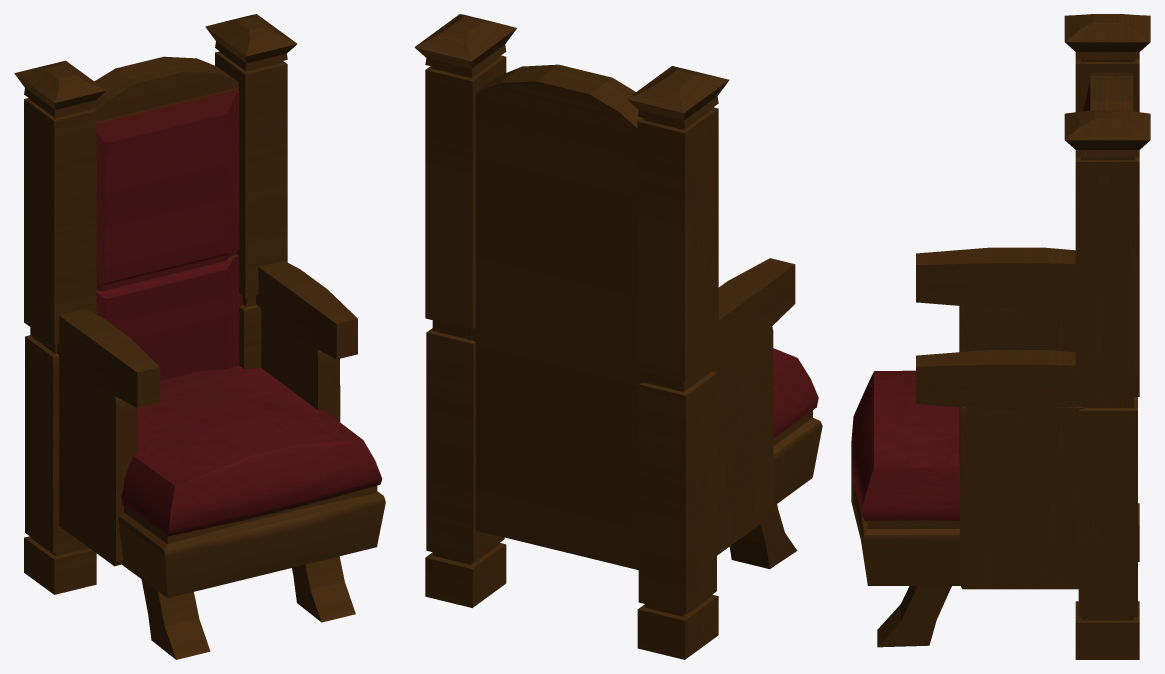
File: Asset_KingsThrone_V2_BS.fbx
3 renders of one model, left to right at view 1: azimuth 30°, elevation 25°; view 2: azimuth 150°, elevation 25°; view 3: azimuth 270°, elevation 25°, orthographic. The views are drawn at different scales.
Visible parts, largest first — view 1: Dmodel_KingsThrone_V1_Bs; view 2: Dmodel_KingsThrone_V1_Bs; view 3: Dmodel_KingsThrone_V1_Bs.
Boxes of the visible parts, <box> form: Dmodel_KingsThrone_V1_Bs: <box>14,14,385,659</box>; Dmodel_KingsThrone_V1_Bs: <box>414,14,822,659</box>; Dmodel_KingsThrone_V1_Bs: <box>851,14,1150,659</box>.
Bounding box in the file's own units: 2.1 × 4.21 × 2.14.
